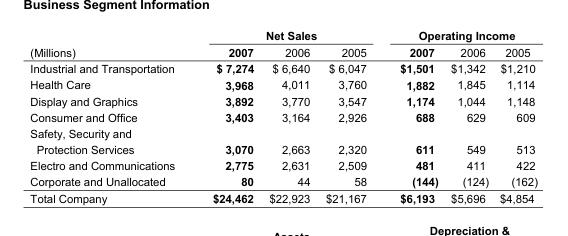table: (29, 28, 536, 204)
table column: (29, 28, 193, 204), (193, 28, 260, 204), (317, 28, 382, 204), (382, 28, 443, 204), (260, 28, 317, 204), (443, 28, 493, 204), (493, 28, 536, 204)
table column header: (29, 28, 536, 60)
table row: (29, 124, 536, 157), (29, 43, 536, 60), (29, 60, 536, 76), (29, 76, 536, 92), (29, 92, 536, 108), (29, 108, 536, 124), (29, 157, 536, 173), (29, 173, 536, 189), (29, 28, 536, 43), (29, 189, 536, 204)
table spanning cell: (29, 28, 193, 60), (193, 28, 382, 43), (382, 28, 536, 43)
